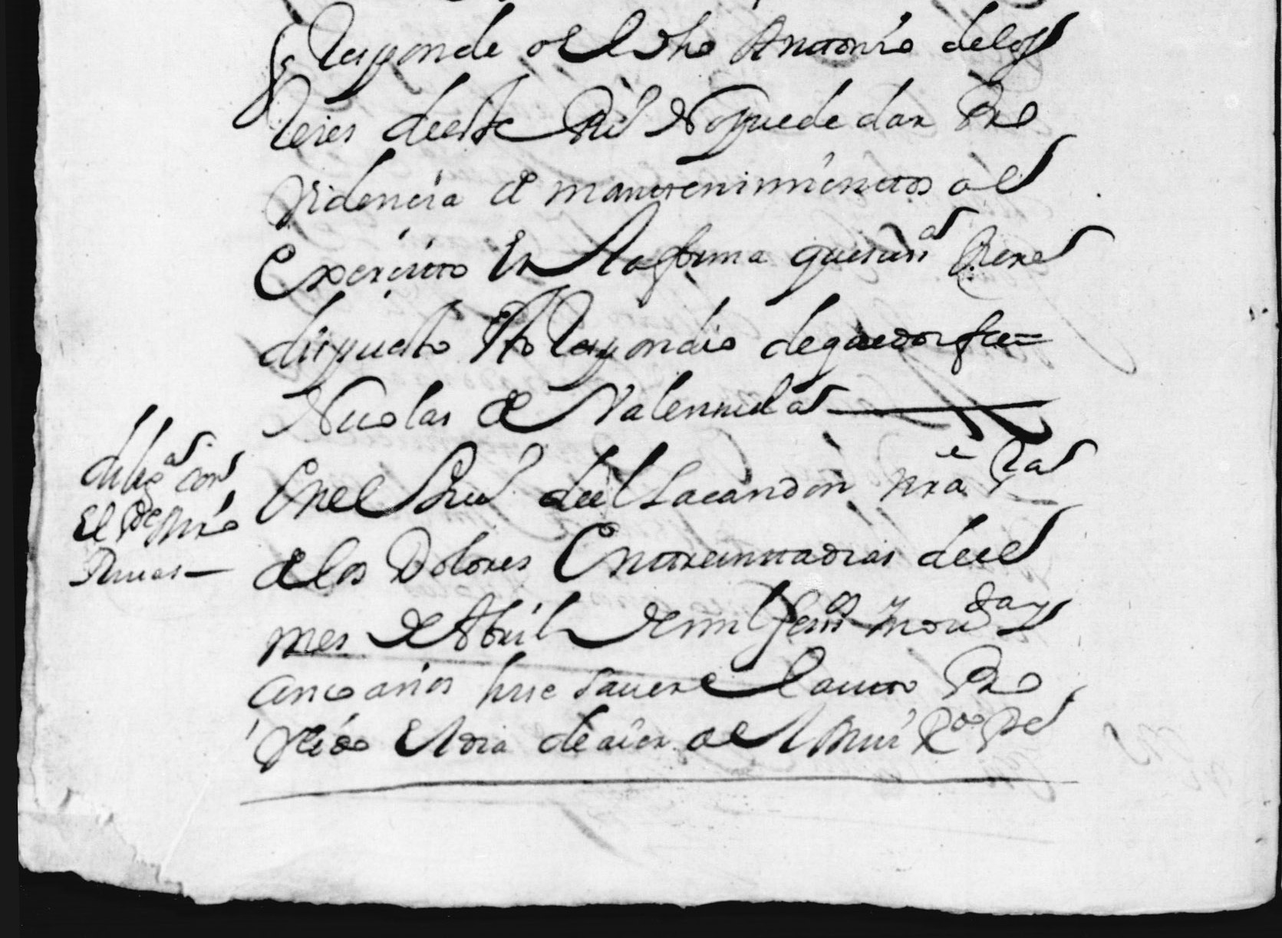lacandon: (639, 460, 855, 509)
